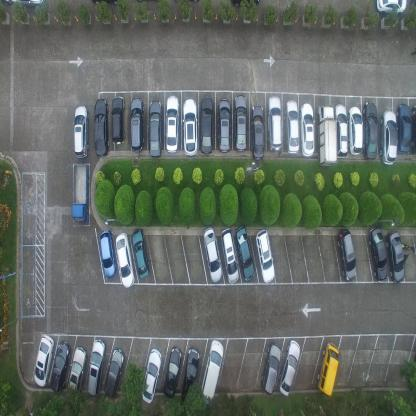car: (200, 338, 224, 405), (278, 339, 302, 398), (318, 342, 341, 398), (318, 103, 338, 166), (48, 339, 70, 394), (202, 227, 223, 284), (254, 227, 275, 284), (142, 346, 163, 403), (370, 224, 390, 283), (234, 225, 255, 281), (114, 232, 135, 288), (220, 226, 240, 284), (261, 342, 282, 396), (71, 162, 89, 224), (87, 338, 105, 400), (34, 333, 54, 388), (338, 227, 358, 281), (181, 346, 200, 402), (162, 346, 182, 399), (104, 348, 125, 397), (388, 228, 406, 284), (380, 108, 397, 166), (182, 98, 198, 158), (93, 98, 109, 158), (68, 346, 86, 398), (132, 228, 150, 279), (267, 94, 283, 151), (200, 96, 215, 156), (148, 99, 163, 158), (73, 103, 89, 158), (396, 103, 412, 156), (233, 93, 247, 153), (364, 101, 378, 161), (99, 228, 116, 277), (300, 102, 315, 157), (166, 94, 180, 152), (250, 103, 264, 160), (217, 98, 231, 154), (130, 96, 144, 152), (334, 103, 348, 159), (285, 99, 299, 154), (348, 106, 363, 156), (111, 94, 125, 145), (376, 0, 408, 15), (410, 104, 416, 156)
